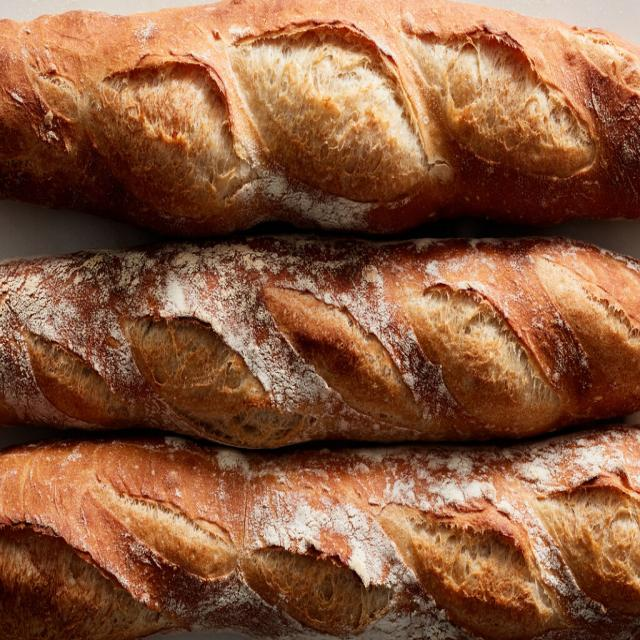Baguette: (0, 0, 639, 234), (0, 234, 639, 447), (0, 425, 639, 636), (375, 541, 381, 548)
